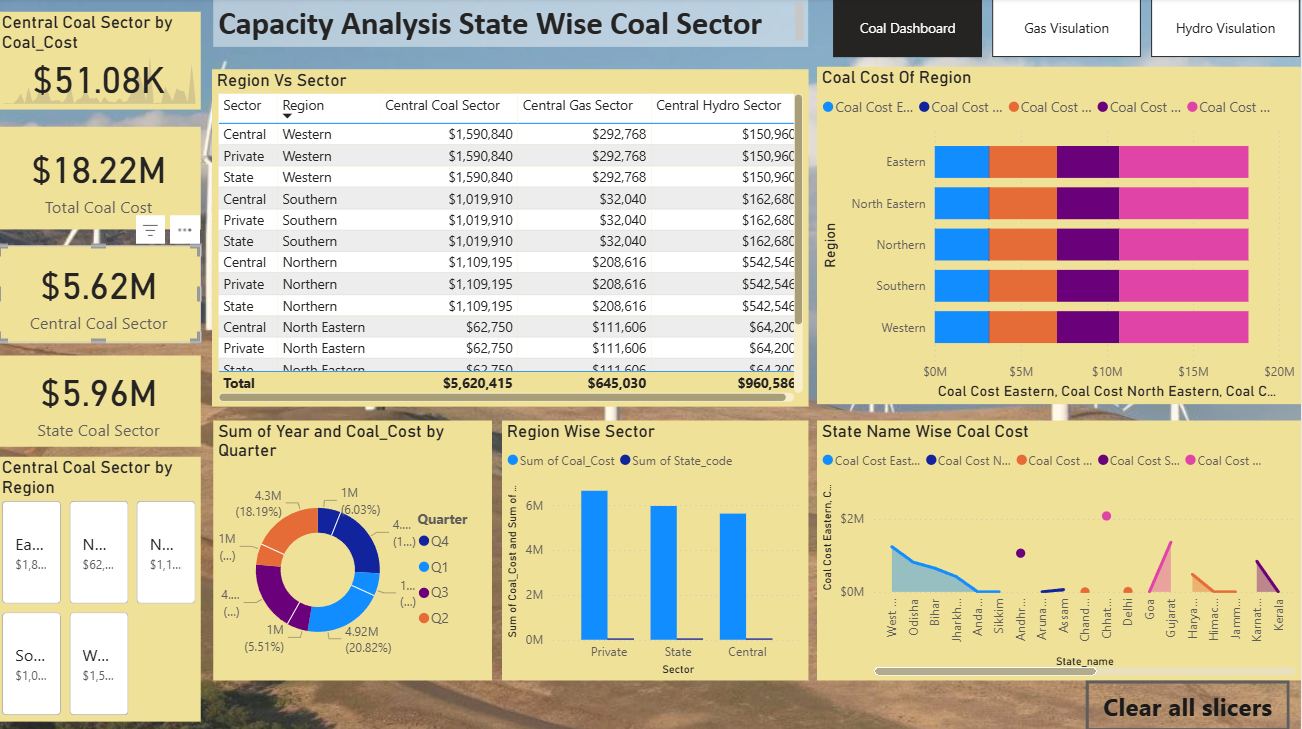

This screenshot's page, from the dashboard's own definition file:
{"tool":"powerbi","page":{"name":"Coal Dashboard","canvas":[1280,720],"ordinal":7},"visuals":[{"type":"barChart","title":"Coal Cost Of Region","fields":{"Category":["Capacity Statewise.Region"],"Y":["Capacity Statewise.Coal Cost Eastern","Capacity Statewise.Coal Cost North Eastern","Capacity Statewise.Coal Cost Northern","Capacity Statewise.Coal Cost Southern","Capacity Statewise.Coal Cost Western"]},"box":[804.9,67.5,474.8,331.3],"z":0},{"type":"kpi","fields":{"TrendLine":["Capacity Statewise.Coal_Cost"],"Indicator":["Capacity Statewise.Central Coal Sector"]},"box":[0,13.5,200,95.7],"z":1000},{"type":"donutChart","title":"Sum of Year and  Coal_Cost by Quarter","fields":{"Category":["Calendar.Quarter"],"Y":["Sum(Calendar.Year)","Sum(Capacity Statewise.Coal_Cost)"]},"box":[212.3,414.7,273.6,255.2],"z":2000},{"type":"tableEx","title":"Region Vs Sector","fields":{"Values":["Capacity Statewise.Sector","Capacity Statewise.Region","Capacity Statewise.Central Coal Sector","Capacity Statewise.Central Gas Sector","Capacity Statewise.Central Hydro Sector"]},"box":[211,69.9,585.3,331.3],"z":3000},{"type":"card","fields":{"Values":["installed-capacity-statewise (1.Total Sales"]},"box":[0,126.4,200,100.6],"z":4000},{"type":"card","fields":{"Values":["Capacity Statewise.Central Sector"]},"box":[0,242.9,200,95.7],"z":5000},{"type":"advancedSlicerVisual","fields":{"Label":["Capacity Statewise.Central Coal Sector"],"Values":["Capacity Statewise.Region"]},"box":[0,450.3,200,260.1],"z":6000},{"type":"lineClusteredColumnComboChart","title":"Region Wise Sector","fields":{"Y":["Sum(Capacity Statewise.Coal_Cost)","Sum(Capacity Statewise.State_code)"],"Category":["Capacity Statewise.Sector"]},"box":[495.7,414.7,300.6,255.2],"z":7000},{"type":"areaChart","title":"State Name Wise Coal Cost","fields":{"Y":["Capacity Statewise.Coal Cost Eastern","Capacity Statewise.Coal Cost North Eastern","Capacity Statewise.Coal Cost Northern","Capacity Statewise.Coal Cost Southern","Capacity Statewise.Coal Cost Western"],"Category":["Capacity Statewise.State_name"]},"box":[804.9,414.7,474.8,255.2],"z":8000},{"type":"textbox","box":[212.3,0,584.1,47.9],"z":9000},{"type":"card","fields":{"Values":["Capacity Statewise.State Sector"]},"box":[0,350.9,200,89.6],"z":10000},{"type":"actionButton","box":[1068.6,670.5,200.3,49.8],"z":11000},{"type":"pageNavigator","box":[820.9,0,458.9,58.9],"z":12000}]}

Visuals, with their boxes in screenshot pixels (x1, y1, x2, y2), scaled from the page's 1280x720 canvas onto the 1302x729 screenshot:
"Coal Cost Of Region" barChart: {"left": 819, "top": 68, "right": 1301, "bottom": 404}
kpi - Capacity Statewise.Coal_Cost x Capacity Statewise.Central Coal Sector: {"left": 0, "top": 14, "right": 203, "bottom": 111}
"Sum of Year and  Coal_Cost by Quarter" donutChart: {"left": 216, "top": 420, "right": 494, "bottom": 678}
"Region Vs Sector" tableEx: {"left": 215, "top": 71, "right": 810, "bottom": 406}
card - installed-capacity-statewise (1.Total Sales: {"left": 0, "top": 128, "right": 203, "bottom": 230}
card - Capacity Statewise.Central Sector: {"left": 0, "top": 246, "right": 203, "bottom": 343}
advancedSlicerVisual - Capacity Statewise.Central Coal Sector x Capacity Statewise.Region: {"left": 0, "top": 456, "right": 203, "bottom": 719}
"Region Wise Sector" lineClusteredColumnComboChart: {"left": 504, "top": 420, "right": 810, "bottom": 678}
"State Name Wise Coal Cost" areaChart: {"left": 819, "top": 420, "right": 1301, "bottom": 678}
textbox: {"left": 216, "top": 0, "right": 810, "bottom": 48}
card - Capacity Statewise.State Sector: {"left": 0, "top": 355, "right": 203, "bottom": 446}
actionButton: {"left": 1087, "top": 679, "right": 1291, "bottom": 728}
pageNavigator: {"left": 835, "top": 0, "right": 1301, "bottom": 60}
